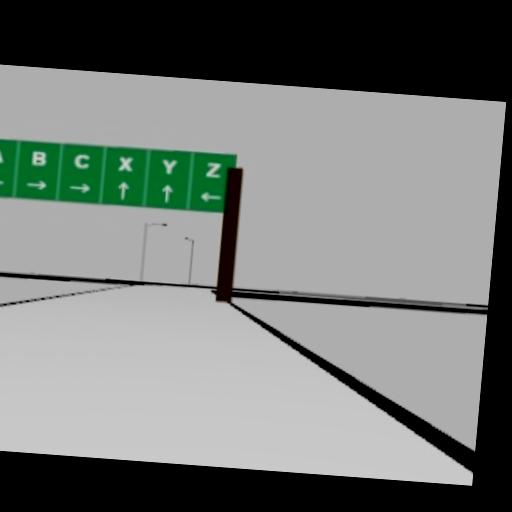A: (0, 147, 3, 163)
B: (31, 150, 45, 166)
C: (73, 153, 89, 169)
Left: (200, 189, 223, 203), (0, 175, 6, 187)
Right: (24, 178, 50, 190), (68, 181, 92, 193)
Straight: (116, 179, 130, 199), (160, 183, 174, 202)
X: (117, 154, 134, 170)
Y: (161, 158, 178, 174)
Z: (205, 161, 222, 177)
